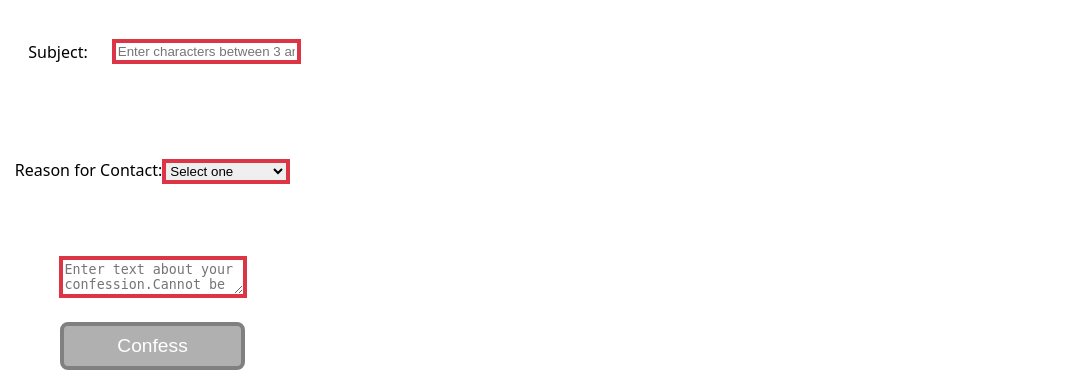
Test case: Confession input validation error for wrong input
Type " er" into the text box with placeholder "Enter text about your confession.Cannot be empty." at (152, 277), box [58, 256, 246, 298]
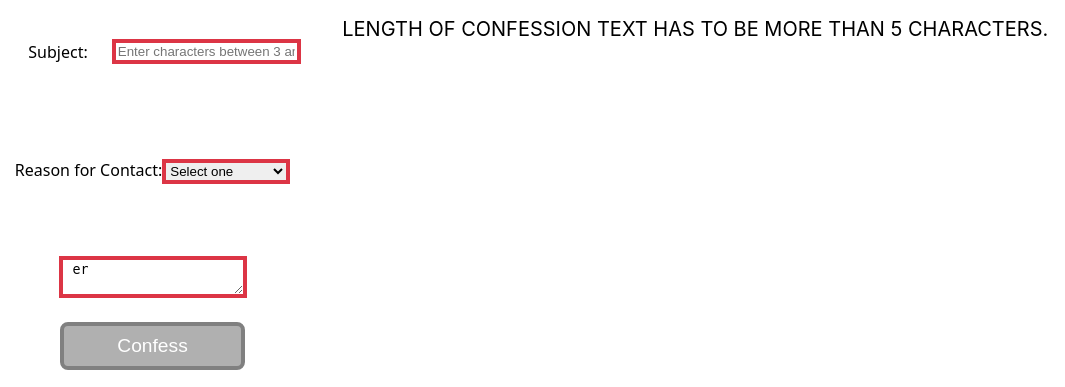
Expected: the text "Length of confession text has to be more than 5 characters." is shown, [342, 17, 1048, 41]
